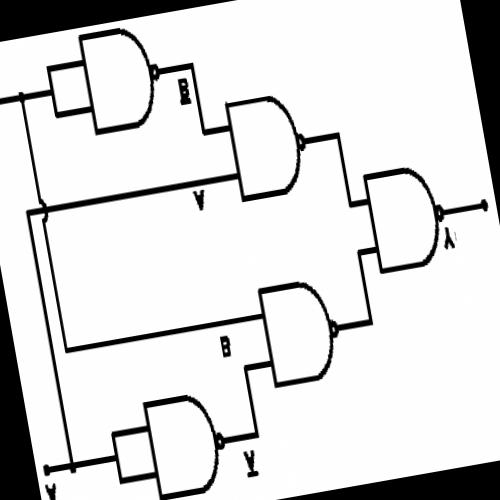nand: (351, 151, 459, 306), (68, 14, 171, 143), (248, 269, 350, 394), (131, 380, 236, 500), (215, 85, 316, 207)
